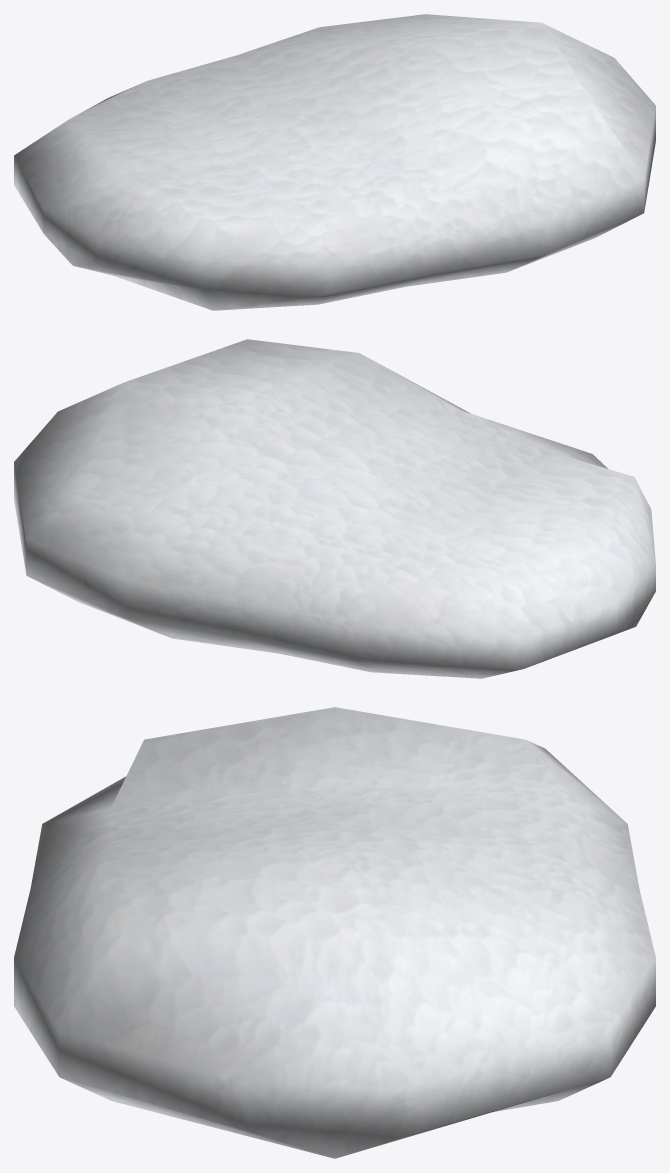
Rendered from snow04.fbx.
3 views of the same model, one above another, from view 1: azimuth 30°, elevation 25°; view 2: azimuth 150°, elevation 25°; view 3: azimuth 270°, elevation 25° (orthographic). The views are drawn at different scales.
Parts seen in each view (by area): view 1: snow04; view 2: snow04; view 3: snow04.
Part boxes in pixels (<box>): snow04: <box>14,14,655,310</box>; snow04: <box>14,339,655,678</box>; snow04: <box>14,707,655,1158</box>.
Bounding box in the file's own units: 201 × 58 × 152.
